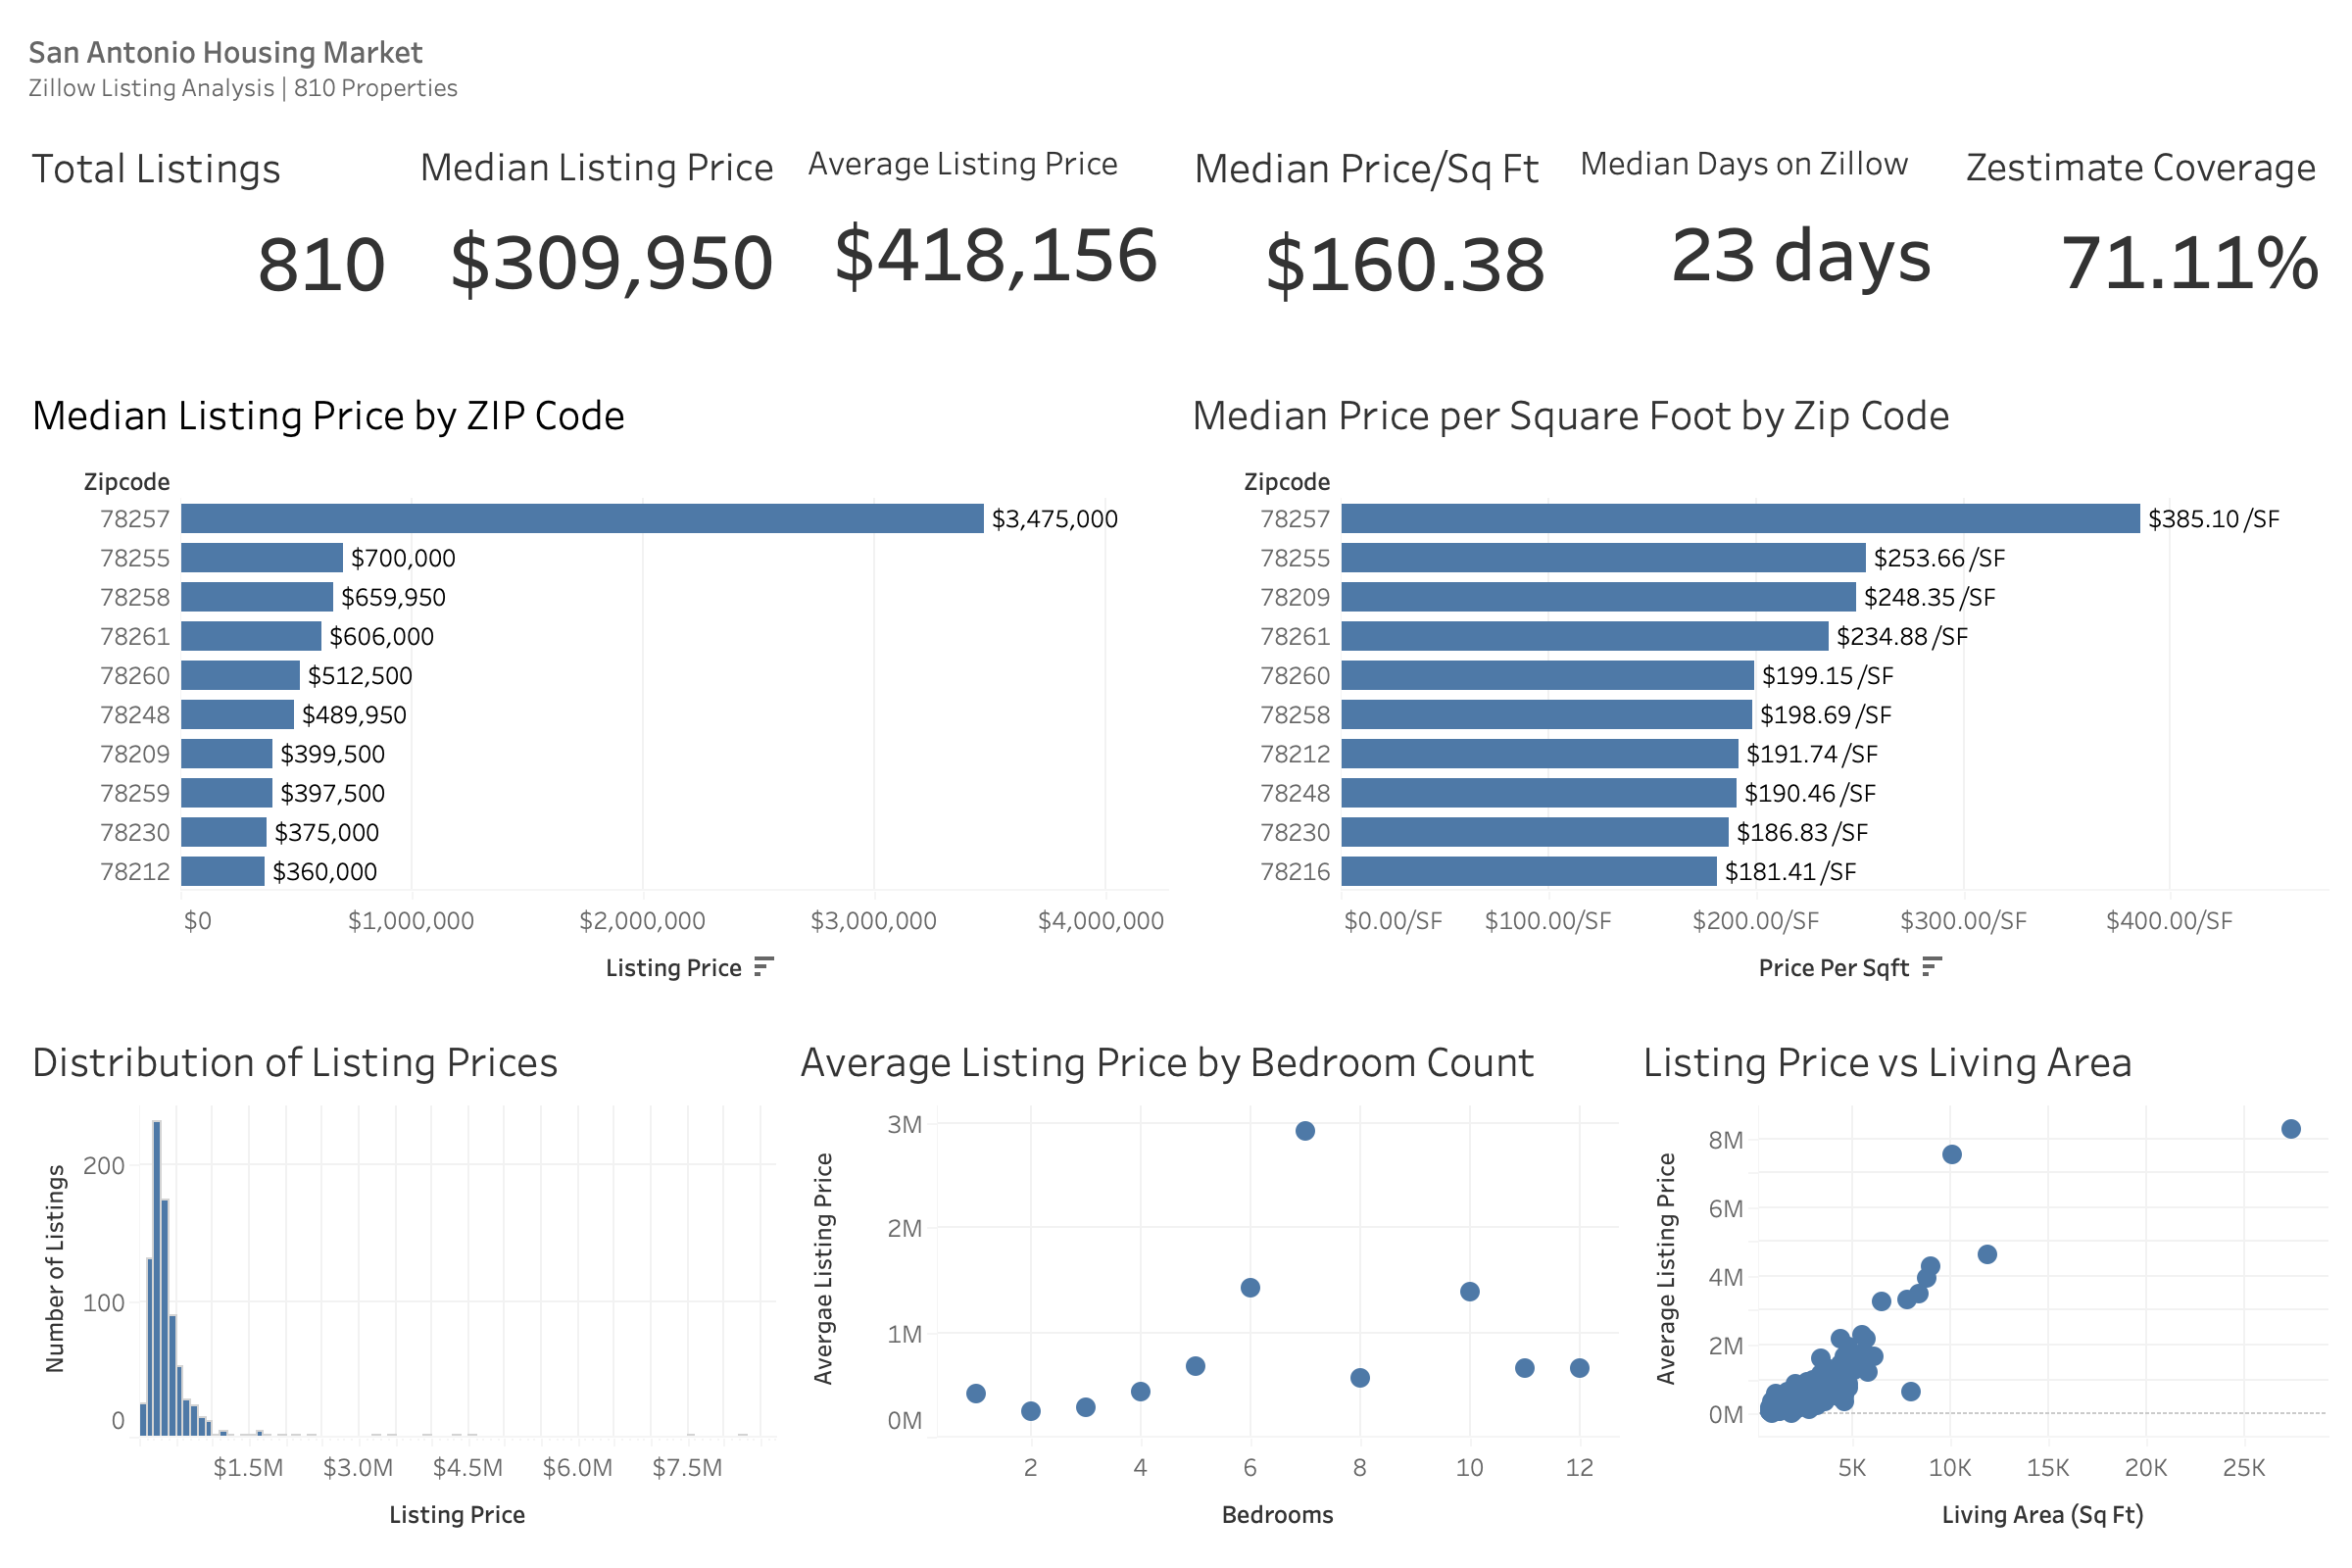

This screenshot's page, from the dashboard's own definition file:
{"tool":"tableau","page":{"name":"Dashboard 1 - San Antonio Housing Market","canvas":[1200,800],"ordinal":0},"visuals":[{"type":"text","box":[8,8,1184,53.3]},{"type":"worksheet","title":"KPI - Total Listings","mark":"Automatic","box":[8,61,198,126]},{"type":"worksheet","title":"KPI - Median Price","mark":"Automatic","box":[206,61,198,126]},{"type":"worksheet","title":"KPI - Average Price","mark":"Automatic","box":[404,61,197,126]},{"type":"worksheet","title":"KPI - Median Price Sq Ft","mark":"Automatic","box":[601,61,197,126]},{"type":"worksheet","title":"KPI - Median Days","mark":"Automatic","box":[798,61,197,126]},{"type":"worksheet","title":"KPI - Zestimate Coverage","mark":"Automatic","box":[995,61,197,126]},{"type":"worksheet","title":"Chart - Median Price by ZIP","mark":"Automatic","rows":["zipcode"],"cols":["median_price"],"box":[8,186.7,592,330.3]},{"type":"worksheet","title":"Chart - Median Price Sq Ft by ZIP","mark":"Automatic","rows":["zipcode"],"cols":["median_price_per_sqft"],"box":[600,186.7,592,330.3]},{"type":"worksheet","title":"Chart - Listing Price Distribution","mark":"Automatic","rows":["zpid"],"cols":["Price (bin)"],"box":[8,517,392,275]},{"type":"worksheet","title":"Chart - Bedrooms vs Price","mark":"Circle","rows":["price"],"cols":["bedrooms"],"box":[400,517,430,275]},{"type":"worksheet","title":"Chart - Living Area vs Price","mark":"Circle","rows":["price"],"cols":["living_area"],"box":[830,517,362,275]}]}

Visuals, with their boxes in screenshot pixels (x1, y1, x2, y2), scaled from the page's 1200x800 canvas onto the 2352x1568 screenshot:
text: BBox(16, 16, 2336, 121)
"KPI - Total Listings" worksheet: BBox(16, 120, 404, 367)
"KPI - Median Price" worksheet: BBox(404, 120, 792, 367)
"KPI - Average Price" worksheet: BBox(792, 120, 1178, 367)
"KPI - Median Price Sq Ft" worksheet: BBox(1178, 120, 1564, 367)
"KPI - Median Days" worksheet: BBox(1564, 120, 1950, 367)
"KPI - Zestimate Coverage" worksheet: BBox(1950, 120, 2336, 367)
"Chart - Median Price by ZIP" worksheet: BBox(16, 366, 1176, 1013)
"Chart - Median Price Sq Ft by ZIP" worksheet: BBox(1176, 366, 2336, 1013)
"Chart - Listing Price Distribution" worksheet: BBox(16, 1013, 784, 1552)
"Chart - Bedrooms vs Price" worksheet (Circle marks): BBox(784, 1013, 1627, 1552)
"Chart - Living Area vs Price" worksheet (Circle marks): BBox(1627, 1013, 2336, 1552)
